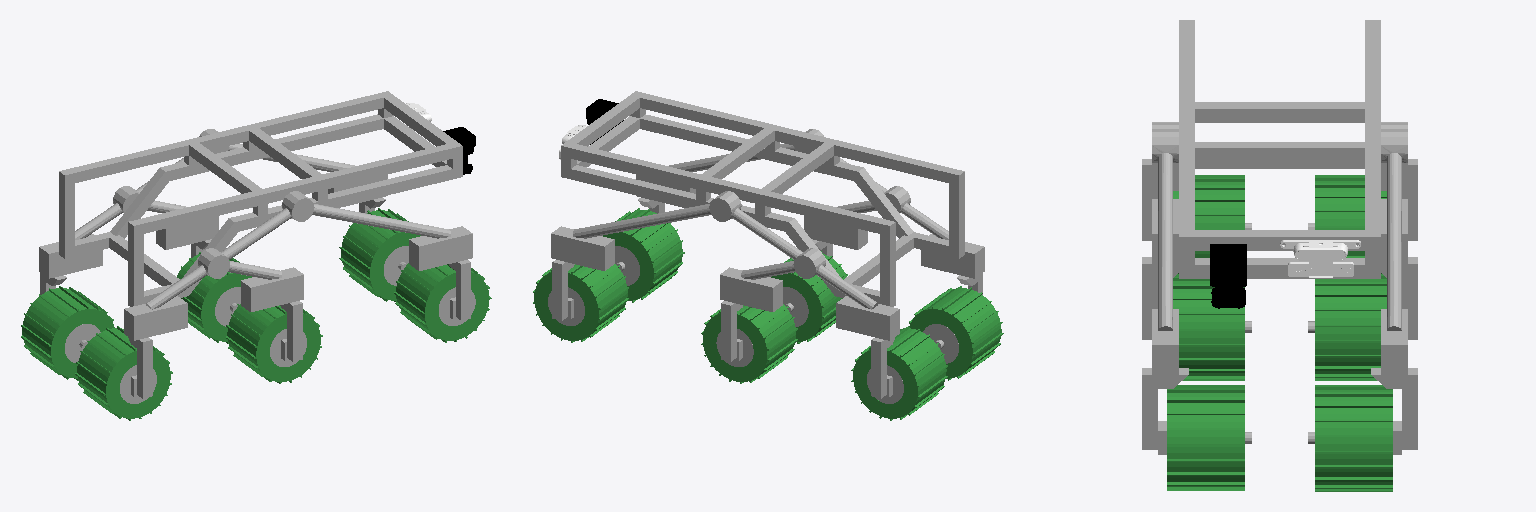
--- Render facts (derived) ---
Views: 3 orthographic renders of the robot side by side, from view 1: azimuth 30°, elevation 25°; view 2: azimuth 150°, elevation 25°; view 3: azimuth 270°, elevation 25°.
Model upmoon with 17 links and 16 joints (13 continuous, 3 fixed), rooted at dummy, posed every joint at zero.
Visible links, largest first — view 1: base_link, wheel_rb_link, wheel_lb_link, wheel_rf_link, wheel_rm_link, wheel_lf_link, wheel_lm_link, ankle_rb_link, ankle_rm_link, ankle_rf_link, ankle_lb_link, ankle_lf_link (+2 smaller); view 2: base_link, wheel_lb_link, wheel_rb_link, wheel_lm_link, wheel_lf_link, wheel_rf_link, wheel_rm_link, ankle_lb_link, ankle_lf_link, ankle_lm_link, ankle_rb_link, ankle_rf_link (+1 smaller); view 3: base_link, wheel_lf_link, wheel_rf_link, wheel_lm_link, wheel_rm_link, wheel_lb_link, wheel_rb_link, camera_realsense_link, laser_hokuyo_link, ankle_lf_link, ankle_rf_link, ankle_lm_link (+3 smaller).
Link boxes in pixels (bbox=[...]): base_link: bbox=[39, 91, 472, 340]; wheel_rb_link: bbox=[75, 326, 172, 420]; wheel_lb_link: bbox=[21, 286, 114, 380]; wheel_rf_link: bbox=[394, 263, 491, 342]; wheel_rm_link: bbox=[226, 304, 322, 383]; wheel_lf_link: bbox=[339, 208, 420, 301]; wheel_lm_link: bbox=[177, 252, 251, 343]; ankle_rb_link: bbox=[120, 337, 156, 403]; ankle_rm_link: bbox=[270, 301, 306, 366]; ankle_rf_link: bbox=[439, 260, 475, 325]; ankle_lb_link: bbox=[40, 273, 100, 362]; ankle_lf_link: bbox=[359, 197, 408, 285]; base_link: bbox=[551, 91, 984, 340]; wheel_lb_link: bbox=[851, 326, 947, 420]; wheel_rb_link: bbox=[909, 286, 1003, 380]; wheel_lm_link: bbox=[701, 304, 797, 383]; wheel_lf_link: bbox=[533, 264, 628, 342]; wheel_rf_link: bbox=[603, 208, 684, 302]; wheel_rm_link: bbox=[771, 251, 847, 343]; ankle_lb_link: bbox=[867, 338, 903, 403]; ankle_lf_link: bbox=[548, 260, 584, 325]; ankle_lm_link: bbox=[716, 301, 753, 366]; ankle_rb_link: bbox=[923, 273, 982, 363]; ankle_rf_link: bbox=[615, 198, 664, 285]; base_link: bbox=[1152, 20, 1407, 377]; wheel_lf_link: bbox=[1315, 385, 1392, 491]; wheel_rf_link: bbox=[1167, 385, 1244, 490]; wheel_lm_link: bbox=[1315, 274, 1386, 380]; wheel_rm_link: bbox=[1173, 274, 1244, 380]; wheel_lb_link: bbox=[1315, 175, 1386, 273]; wheel_rb_link: bbox=[1173, 175, 1244, 273]; camera_realsense_link: bbox=[1280, 240, 1360, 277]; laser_hokuyo_link: bbox=[1210, 244, 1246, 308]; ankle_lf_link: bbox=[1308, 368, 1417, 454]; ankle_rf_link: bbox=[1142, 368, 1251, 454]; ankle_lm_link: bbox=[1308, 257, 1417, 339].
Size in the robot's own frame: 0.9894 by 0.4509 by 0.4642 metres.
15 mesh visuals loaded from 15 distinct referenced files (15 binary STL).

URDF robot description (upmoon):
<?xml version="1.0" encoding="utf-8"?>
<!-- This URDF was automatically created by SolidWorks to URDF Exporter! Originally created by Stephen Brawner ([email redacted]) 
     Commit Version: 1.5.1-0-g916b5db  Build Version: 1.5.7152.31018
     For more information, please see http://wiki.ros.org/sw_urdf_exporter -->
<robot
  name="upmoon">
  <link
    name="dummy">
  </link>
  <link
    name="base_link">
    <inertial>
      <origin
        xyz="-0.020329 2.3465E-09 0.28591"
        rpy="0 0 0" />
      <mass
        value="6.9543" />
      <inertia
        ixx="0.081151"
        ixy="-3.9214E-09"
        ixz="-0.026195"
        iyy="0.31318"
        iyz="4.3114E-10"
        izz="0.36231" />
    </inertial>
    <visual>
      <origin
        xyz="0 0 0"
        rpy="0 0 0" />
      <geometry>
        <mesh
          filename="package://upmoon_description/meshes/base_link.STL" />
      </geometry>
      <material
        name="">
        <color
          rgba="0.75294 0.75294 0.75294 1" />
      </material>
    </visual>
    <collision>
      <origin
        xyz="0 0 0"
        rpy="0 0 0" />
      <geometry>
        <mesh
          filename="package://upmoon_description/meshes/base_link.STL" />
      </geometry>
    </collision>
  </link>
  <joint name="dummy_joint" type="fixed">
     <parent link="dummy"/>
     <child link="base_link"/>
  </joint>
  <link
    name="ankle_lf_link">
    <inertial>
      <origin
        xyz="-2.22044604925031E-16 -0.0554425788361456 -0.113686624298986"
        rpy="0 0 0" />
      <mass
        value="1.04774515766299" />
      <inertia
        ixx="0.00322324069056713"
        ixy="-5.47281175631613E-19"
        ixz="-4.16744139109356E-19"
        iyy="0.00166301817426074"
        iyz="-0.000501932714163738"
        izz="0.002605091688403" />
    </inertial>
    <visual>
      <origin
        xyz="0 0 0"
        rpy="0 0 0" />
      <geometry>
        <mesh
          filename="package://upmoon_description/meshes/ankle_lf_link.STL" />
      </geometry>
      <material
        name="">
        <color
          rgba="0.752941176470588 0.752941176470588 0.752941176470588 1" />
      </material>
    </visual>
    <collision>
      <origin
        xyz="0 0 0"
        rpy="0 0 0" />
      <geometry>
        <mesh
          filename="package://upmoon_description/meshes/ankle_lf_link.STL" />
      </geometry>
    </collision>
  </link>
  <joint
    name="ankle_lf_joint"
    type="continuous">
    <origin
      xyz="0.39333 0.18733 0.15178"
      rpy="0 0 0" />
    <parent
      link="base_link" />
    <child
      link="ankle_lf_link" />
    <axis
      xyz="0 0 1" />
    <limit effort="27" velocity="0.8727" lower="0" upper="3.1415" />
  </joint>
  <transmission name="ankle_lf_trans">
    <type>transmission_interface/SimpleTransmission</type>
    <actuator name="ankle_lf_motor">
      <mechanicalReduction>1</mechanicalReduction>
    </actuator>
    <joint name="ankle_lf_joint">
      <hardwareInterface>hardware_interface/PositionJointInterface</hardwareInterface>
    </joint>
  </transmission>
  <link
    name="wheel_lf_link">
    <inertial>
      <origin
        xyz="-1.11022302462516E-16 0.0635 1.38777878078145E-17"
        rpy="0 0 0" />
      <mass
        value="1.85480335178328" />
      <inertia
        ixx="0.00675983988350881"
        ixy="1.5605162651139E-19"
        ixz="6.23180432713856E-19"
        iyy="0.00853365922353221"
        iyz="-4.21851364054712E-19"
        izz="0.00675983988350881" />
    </inertial>
    <visual>
      <origin
        xyz="0 0 0"
        rpy="0 0 0" />
      <geometry>
        <mesh
          filename="package://upmoon_description/meshes/wheel_lf_link.STL" />
      </geometry>
      <material
        name="">
        <color
          rgba="0.286274509803922 0.662745098039216 0.329411764705882 1" />
      </material>
    </visual>
    <collision>
      <origin
        xyz="0 0 0"
        rpy="0 0 0" />
      <geometry>
        <mesh
          filename="package://upmoon_description/meshes/wheel_lf_link.STL" />
      </geometry>
    </collision>
  </link>
  <joint
    name="wheel_lf_joint"
    type="continuous">
    <origin
      xyz="0 -0.12954 -0.12065"
      rpy="0 0 0" />
    <parent
      link="ankle_lf_link" />
    <child
      link="wheel_lf_link" />
    <axis
      xyz="0 -1 0" />
  </joint>
  <transmission name="wheel_lf_trans">
    <type>transmission_interface/SimpleTransmission</type>
    <actuator name="wheel_lf_motor">
      <mechanicalReduction>1</mechanicalReduction>
    </actuator>
    <joint name="wheel_lf_joint">
      <hardwareInterface>hardware_interface/VelocityJointInterface</hardwareInterface>
    </joint>
  </transmission>
  <link
    name="ankle_lm_link">
    <inertial>
      <origin
        xyz="5.55111512312578E-17 -0.0554425788361452 -0.113686624298986"
        rpy="0 0 0" />
      <mass
        value="1.04774515766299" />
      <inertia
        ixx="0.00322324069056713"
        ixy="-2.10945751927331E-20"
        ixz="-1.07438080557644E-20"
        iyy="0.00166301817426074"
        iyz="-0.000501932714163738"
        izz="0.002605091688403" />
    </inertial>
    <visual>
      <origin
        xyz="0 0 0"
        rpy="0 0 0" />
      <geometry>
        <mesh
          filename="package://upmoon_description/meshes/ankle_lm_link.STL" />
      </geometry>
      <material
        name="">
        <color
          rgba="0.752941176470588 0.752941176470588 0.752941176470588 1" />
      </material>
    </visual>
    <collision>
      <origin
        xyz="0 0 0"
        rpy="0 0 0" />
      <geometry>
        <mesh
          filename="package://upmoon_description/meshes/ankle_lm_link.STL" />
      </geometry>
    </collision>
  </link>
  <joint
    name="ankle_lm_joint"
    type="continuous">
    <origin
      xyz="-0.035934 0.18733 0.15178"
      rpy="0 0 0" />
    <parent
      link="base_link" />
    <child
      link="ankle_lm_link" />
    <axis
      xyz="0 0 1" />
    <limit effort="27" velocity="0.8727" lower="0" upper="3.1415" />
  </joint>
  <transmission name="ankle_lm_trans">
    <type>transmission_interface/SimpleTransmission</type>
    <actuator name="ankle_lm_motor">
      <mechanicalReduction>1</mechanicalReduction>
    </actuator>
    <joint name="ankle_lm_joint">
      <hardwareInterface>hardware_interface/PositionJointInterface</hardwareInterface>
    </joint>
  </transmission>
  <link
    name="wheel_lm_link">
    <inertial>
      <origin
        xyz="-2.77555756156289E-17 0.0635 1.38777878078145E-17"
        rpy="0 0 0" />
      <mass
        value="1.85480335178328" />
      <inertia
        ixx="0.00675983988350881"
        ixy="1.02243039778557E-19"
        ixz="-6.10688344738352E-19"
        iyy="0.00853365922353221"
        iyz="-8.58134619313326E-21"
        izz="0.00675983988350881" />
    </inertial>
    <visual>
      <origin
        xyz="0 0 0"
        rpy="0 0 0" />
      <geometry>
        <mesh
          filename="package://upmoon_description/meshes/wheel_lm_link.STL" />
      </geometry>
      <material
        name="">
        <color
          rgba="0.286274509803922 0.662745098039216 0.329411764705882 1" />
      </material>
    </visual>
    <collision>
      <origin
        xyz="0 0 0"
        rpy="0 0 0" />
      <geometry>
        <mesh
          filename="package://upmoon_description/meshes/wheel_lm_link.STL" />
      </geometry>
    </collision>
  </link>
  <joint
    name="wheel_lm_joint"
    type="continuous">
    <origin
      xyz="0 -0.12954 -0.12065"
      rpy="0 0 0" />
    <parent
      link="ankle_lm_link" />
    <child
      link="wheel_lm_link" />
    <axis
      xyz="0 -1 0" />
  </joint>
  <transmission name="wheel_lm_trans">
    <type>transmission_interface/SimpleTransmission</type>
    <actuator name="wheel_lm_motor">
      <mechanicalReduction>1</mechanicalReduction>
    </actuator>
    <joint name="wheel_lm_joint">
      <hardwareInterface>hardware_interface/VelocityJointInterface</hardwareInterface>
    </joint>
  </transmission>
  <link
    name="ankle_lb_link">
    <inertial>
      <origin
        xyz="8.32667268468867E-17 -0.0554425788361456 -0.113686624298986"
        rpy="0 0 0" />
      <mass
        value="1.04774515766299" />
      <inertia
        ixx="0.00322324069056713"
        ixy="-1.00834710764583E-19"
        ixz="-6.61417645039752E-20"
        iyy="0.00166301817426074"
        iyz="-0.000501932714163739"
        izz="0.002605091688403" />
    </inertial>
    <visual>
      <origin
        xyz="0 0 0"
        rpy="0 0 0" />
      <geometry>
        <mesh
          filename="package://upmoon_description/meshes/ankle_lb_link.STL" />
      </geometry>
      <material
        name="">
        <color
          rgba="0.752941176470588 0.752941176470588 0.752941176470588 1" />
      </material>
    </visual>
    <collision>
      <origin
        xyz="0 0 0"
        rpy="0 0 0" />
      <geometry>
        <mesh
          filename="package://upmoon_description/meshes/ankle_lb_link.STL" />
      </geometry>
    </collision>
  </link>
  <joint
    name="ankle_lb_joint"
    type="continuous">
    <origin
      xyz="-0.41873 0.18733 0.15178"
      rpy="0 0 0" />
    <parent
      link="base_link" />
    <child
      link="ankle_lb_link" />
    <axis
      xyz="0 0 -1" />
    <limit effort="27" velocity="0.8727" lower="0" upper="3.1415" />
  </joint>
  <transmission name="ankle_lb_trans">
    <type>transmission_interface/SimpleTransmission</type>
    <actuator name="ankle_lb_motor">
      <mechanicalReduction>1</mechanicalReduction>
    </actuator>
    <joint name="ankle_lb_joint">
      <hardwareInterface>hardware_interface/PositionJointInterface</hardwareInterface>
    </joint>
  </transmission>
  <link
    name="wheel_lb_link">
    <inertial>
      <origin
        xyz="-2.77555756156289E-17 0.0635 0"
        rpy="0 0 0" />
      <mass
        value="1.85480335178328" />
      <inertia
        ixx="0.00675983988350881"
        ixy="-1.38168356719149E-19"
        ixz="4.36164364250201E-19"
        iyy="0.0085336592235322"
        iyz="2.30270606740052E-19"
        izz="0.00675983988350881" />
    </inertial>
    <visual>
      <origin
        xyz="0 0 0"
        rpy="0 0 0" />
      <geometry>
        <mesh
          filename="package://upmoon_description/meshes/wheel_lb_link.STL" />
      </geometry>
      <material
        name="">
        <color
          rgba="0.286274509803922 0.662745098039216 0.329411764705882 1" />
      </material>
    </visual>
    <collision>
      <origin
        xyz="0 0 0"
        rpy="0 0 0" />
      <geometry>
        <mesh
          filename="package://upmoon_description/meshes/wheel_lb_link.STL" />
      </geometry>
    </collision>
  </link>
  <joint
    name="wheel_lb_joint"
    type="continuous">
    <origin
      xyz="0 -0.12954 -0.12065"
      rpy="0 0 0" />
    <parent
      link="ankle_lb_link" />
    <child
      link="wheel_lb_link" />
    <axis
      xyz="0 -1 0" />
  </joint>
  <transmission name="wheel_lb_trans">
    <type>transmission_interface/SimpleTransmission</type>
    <actuator name="wheel_lb_motor">
      <mechanicalReduction>1</mechanicalReduction>
    </actuator>
    <joint name="wheel_lb_joint">
      <hardwareInterface>hardware_interface/VelocityJointInterface</hardwareInterface>
    </joint>
  </transmission>
  <link
    name="ankle_rf_link">
    <inertial>
      <origin
        xyz="1.11022302462516E-16 0.0554425788361456 -0.113686624298986"
        rpy="0 0 0" />
      <mass
        value="1.04774515766299" />
      <inertia
        ixx="0.00322324069056714"
        ixy="-4.13907677100432E-19"
        ixz="3.11569712245013E-19"
        iyy="0.00166301817426074"
        iyz="0.000501932714163739"
        izz="0.002605091688403" />
    </inertial>
    <visual>
      <origin
        xyz="0 0 0"
        rpy="0 0 0" />
      <geometry>
        <mesh
          filename="package://upmoon_description/meshes/ankle_rf_link.STL" />
      </geometry>
      <material
        name="">
        <color
          rgba="0.752941176470588 0.752941176470588 0.752941176470588 1" />
      </material>
    </visual>
    <collision>
      <origin
        xyz="0 0 0"
        rpy="0 0 0" />
      <geometry>
        <mesh
          filename="package://upmoon_description/meshes/ankle_rf_link.STL" />
      </geometry>
    </collision>
  </link>
  <joint
    name="ankle_rf_joint"
    type="continuous">
    <origin
      xyz="0.39333 -0.18733 0.15178"
      rpy="0 0 0" />
    <parent
      link="base_link" />
    <child
      link="ankle_rf_link" />
    <axis
      xyz="0 0 -1" />
    <limit effort="27" velocity="0.8727" lower="0" upper="3.1415" />
  </joint>
  <transmission name="ankle_rf_trans">
    <type>transmission_interface/SimpleTransmission</type>
    <actuator name="ankle_rf_motor">
      <mechanicalReduction>1</mechanicalReduction>
    </actuator>
    <joint name="ankle_rf_joint">
      <hardwareInterface>hardware_interface/PositionJointInterface</hardwareInterface>
    </joint>
  </transmission>
  <link
    name="wheel_rf_link">
    <inertial>
      <origin
        xyz="0 -0.0634999999999999 -1.38777878078145E-17"
        rpy="0 0 0" />
      <mass
        value="1.85480335178328" />
      <inertia
        ixx="0.00675983988350882"
        ixy="-1.12473578604354E-19"
        ixz="-1.25004024262758E-19"
        iyy="0.00853365922353221"
        iyz="-8.67811043273137E-20"
        izz="0.00675983988350881" />
    </inertial>
    <visual>
      <origin
        xyz="0 0 0"
        rpy="0 0 0" />
      <geometry>
        <mesh
          filename="package://upmoon_description/meshes/wheel_rf_link.STL" />
      </geometry>
      <material
        name="">
        <color
          rgba="0.286274509803922 0.662745098039216 0.329411764705882 1" />
      </material>
    </visual>
    <collision>
      <origin
        xyz="0 0 0"
        rpy="0 0 0" />
      <geometry>
        <mesh
          filename="package://upmoon_description/meshes/wheel_rf_link.STL" />
      </geometry>
    </collision>
  </link>
  <joint
    name="wheel_rf_joint"
    type="continuous">
    <origin
      xyz="0 0.12954 -0.12065"
      rpy="0 0 0" />
    <parent
      link="ankle_rf_link" />
    <child
      link="wheel_rf_link" />
    <axis
      xyz="0 -1 0" />
  </joint>
  <transmission name="wheel_rf_trans">
    <type>transmission_interface/SimpleTransmission</type>
    <actuator name="wheel_rf_motor">
      <mechanicalReduction>1</mechanicalReduction>
    </actuator>
    <joint name="wheel_rf_joint">
      <hardwareInterface>hardware_interface/VelocityJointInterface</hardwareInterface>
    </joint>
  </transmission>
  <link
    name="ankle_rm_link">
    <inertial>
      <origin
        xyz="1.38777878078145E-16 0.0554425788361446 -0.113686624298986"
        rpy="0 0 0" />
      <mass
        value="1.04774515766299" />
      <inertia
        ixx="0.00322324069056713"
        ixy="-2.86732537090208E-19"
        ixz="2.95641698652251E-19"
        iyy="0.00166301817426074"
        iyz="0.000501932714163738"
        izz="0.002605091688403" />
    </inertial>
    <visual>
      <origin
        xyz="0 0 0"
        rpy="0 0 0" />
      <geometry>
        <mesh
          filename="package://upmoon_description/meshes/ankle_rm_link.STL" />
      </geometry>
      <material
        name="">
        <color
          rgba="0.752941176470588 0.752941176470588 0.752941176470588 1" />
      </material>
    </visual>
    <collision>
      <origin
        xyz="0 0 0"
        rpy="0 0 0" />
      <geometry>
        <mesh
          filename="package://upmoon_description/meshes/ankle_rm_link.STL" />
      </geometry>
    </collision>
  </link>
  <joint
    name="ankle_rm_joint"
    type="continuous">
    <origin
      xyz="-0.035934 -0.18733 0.15178"
      rpy="0 0 0" />
    <parent
      link="base_link" />
    <child
      link="ankle_rm_link" />
    <axis
      xyz="0 0 -1" />
    <limit effort="27" velocity="0.8727" lower="0" upper="3.1415" />
  </joint>
  <transmission name="ankle_rm_trans">
    <type>transmission_interface/SimpleTransmission</type>
    <actuator name="ankle_rm_motor">
      <mechanicalReduction>1</mechanicalReduction>
    </actuator>
    <joint name="ankle_rm_joint">
      <hardwareInterface>hardware_interface/PositionJointInterface</hardwareInterface>
    </joint>
  </transmission>
  <link
    name="wheel_rm_link">
    <inertial>
      <origin
        xyz="2.77555756156289E-17 -0.0635 0"
        rpy="0 0 0" />
      <mass
        value="1.85480335178328" />
      <inertia
        ixx="0.00675983988350881"
        ixy="-2.00877775622719E-19"
        ixz="-9.24742333906929E-19"
        iyy="0.00853365922353221"
        iyz="-1.24658504086238E-19"
        izz="0.00675983988350881" />
    </inertial>
    <visual>
      <origin
        xyz="0 0 0"
        rpy="0 0 0" />
      <geometry>
        <mesh
          filename="package://upmoon_description/meshes/wheel_rm_link.STL" />
      </geometry>
      <material
        name="">
        <color
          rgba="0.286274509803922 0.662745098039216 0.329411764705882 1" />
      </material>
    </visual>
    <collision>
      <origin
        xyz="0 0 0"
        rpy="0 0 0" />
      <geometry>
        <mesh
          filename="package://upmoon_description/meshes/wheel_rm_link.STL" />
      </geometry>
    </collision>
  </link>
  <joint
    name="wheel_rm_joint"
    type="continuous">
    <origin
      xyz="0 0.12954 -0.12065"
      rpy="0 0 0" />
    <parent
      link="ankle_rm_link" />
    <child
      link="wheel_rm_link" />
    <axis
      xyz="0 -1 0" />
  </joint>
  <transmission name="wheel_rm_trans">
    <type>transmission_interface/SimpleTransmission</type>
    <actuator name="wheel_rm_motor">
      <mechanicalReduction>1</mechanicalReduction>
    </actuator>
    <joint name="wheel_rm_joint">
      <hardwareInterface>hardware_interface/VelocityJointInterface</hardwareInterface>
    </joint>
  </transmission>
  <link
    name="ankle_rb_link">
    <inertial>
      <origin
        xyz="1.11022302462516E-16 0.0554425788361455 -0.113686624298986"
        rpy="0 0 0" />
      <mass
        value="1.04774515766299" />
      <inertia
        ixx="0.00322324069056713"
        ixy="-3.18820056139109E-19"
        ixz="2.4167914372682E-19"
        iyy="0.00166301817426074"
        iyz="0.000501932714163738"
        izz="0.002605091688403" />
    </inertial>
    <visual>
      <origin
        xyz="0 0 0"
        rpy="0 0 0" />
      <geometry>
        <mesh
          filename="package://upmoon_description/meshes/ankle_rb_link.STL" />
      </geometry>
      <material
        name="">
        <color
          rgba="0.752941176470588 0.752941176470588 0.752941176470588 1" />
      </material>
    </visual>
    <collision>
      <origin
        xyz="0 0 0"
        rpy="0 0 0" />
      <geometry>
        <mesh
          filename="package://upmoon_description/meshes/ankle_rb_link.STL" />
      </geometry>
    </collision>
  </link>
  <joint
    name="ankle_rb_joint"
    type="continuous">
    <origin
      xyz="-0.41873 -0.18733 0.15178"
      rpy="0 0 0" />
    <parent
      link="base_link" />
    <child
      link="ankle_rb_link" />
    <axis
      xyz="0 0 1" />
    <limit effort="27" velocity="0.8727" lower="0" upper="3.1415" />
  </joint>
  <transmission name="ankle_rb_trans">
    <type>transmission_interface/SimpleTransmission</type>
    <actuator name="ankle_rb_motor">
      <mechanicalReduction>1</mechanicalReduction>
    </actuator>
    <joint name="ankle_rb_joint">
      <hardwareInterface>hardware_interface/PositionJointInterface</hardwareInterface>
    </joint>
  </transmission>
  <link
    name="wheel_rb_link">
    <inertial>
      <origin
        xyz="0 -0.0634999999999999 0"
        rpy="0 0 0" />
      <mass
        value="1.85480335178328" />
      <inertia
        ixx="0.00675983988350882"
        ixy="-6.1303740424944E-20"
        ixz="-2.39283151664608E-19"
        iyy="0.00853365922353221"
        iyz="-2.53875293166181E-19"
        izz="0.00675983988350882" />
    </inertial>
    <visual>
      <origin
        xyz="0 0 0"
        rpy="0 0 0" />
      <geometry>
        <mesh
          filename="package://upmoon_description/meshes/wheel_rb_link.STL" />
      </geometry>
      <material
        name="">
        <color
          rgba="0.286274509803922 0.662745098039216 0.329411764705882 1" />
      </material>
    </visual>
    <collision>
      <origin
        xyz="0 0 0"
        rpy="0 0 0" />
      <geometry>
        <mesh
          filename="package://upmoon_description/meshes/wheel_rb_link.STL" />
      </geometry>
    </collision>
  </link>
  <joint
    name="wheel_rb_joint"
    type="continuous">
    <origin
      xyz="0 0.12954 -0.12065"
      rpy="0 0 0" />
    <parent
      link="ankle_rb_link" />
    <child
      link="wheel_rb_link" />
    <axis
      xyz="0 -1 0" />
  </joint>
  <transmission name="wheel_rb_trans">
    <type>transmission_interface/SimpleTransmission</type>
    <actuator name="wheel_rb_motor">
      <mechanicalReduction>1</mechanicalReduction>
    </actuator>
    <joint name="wheel_rb_joint">
      <hardwareInterface>hardware_interface/VelocityJointInterface</hardwareInterface>
    </joint>
  </transmission>
  <link
    name="camera_realsense_link">
    <inertial>
      <origin
        xyz="-0.0128550647291507 5.52081875673238E-05 -0.00936121724707395"
        rpy="0 0 0" />
      <mass
        value="0.0985136277108849" />
      <inertia
        ixx="7.61219529962772E-05"
        ixy="3.74636861230566E-07"
        ixz="5.796339324969E-07"
        iyy="1.14796379028125E-05"
        iyz="-2.18308426233798E-08"
        izz="6.92443554773795E-05" />
    </inertial>
    <visual>
      <origin
        xyz="0 0 0"
        rpy="0 0 0" />
      <geometry>
        <mesh
          filename="package://upmoon_description/meshes/camera_realsense_link.STL" />
      </geometry>
      <material
        name="">
        <color
          rgba="1 1 1 1" />
      </material>
    </visual>
    <collision>
      <origin
        xyz="0 0 0"
        rpy="0 0 0" />
      <geometry>
        <mesh
          filename="package://upmoon_description/meshes/camera_realsense_link.STL" />
      </geometry>
    </collision>
  </link>
  <joint
    name="camera_realsense_joint"
    type="fixed">
    <origin
      xyz="0.44918 0.067 0.38773"
      rpy="0 0 0" />
    <parent
      link="base_link" />
    <child
      link="camera_realsense_link" />
    <axis
      xyz="0 0 0" />
  </joint>
  <link
    name="laser_hokuyo_link">
    <inertial>
      <origin
        xyz="-0.00448365028731934 -7.17616410739197E-10 0.0214158148247628"
        rpy="0 0 0" />
      <mass
        value="0.296744243045657" />
      <inertia
        ixx="0.000271610745135452"
        ixy="-1.29503270039457E-12"
        ixz="-1.96346195833029E-05"
        iyy="0.000281872737876437"
        iyz="-4.23080185617316E-12"
        izz="0.000160350437846327" />
    </inertial>
    <visual>
      <origin
        xyz="0 0 0"
        rpy="0 0 0" />
      <geometry>
        <mesh
          filename="package://upmoon_description/meshes/laser_hokuyo_link.STL" />
      </geometry>
      <material
        name="">
        <color
          rgba="0 0 0 1" />
      </material>
    </visual>
    <collision>
      <origin
        xyz="0 0 0"
        rpy="0 0 0" />
      <geometry>
        <mesh
          filename="package://upmoon_description/meshes/laser_hokuyo_link.STL" />
      </geometry>
    </collision>
  </link>
  <joint
    name="laser_hokuyo_joint"
    type="fixed">
    <origin
      xyz="0.45312 -0.08382 0.33685"
      rpy="0 0 0" />
    <parent
      link="base_link" />
    <child
      link="laser_hokuyo_link" />
    <axis
      xyz="0 0 0" />
  </joint>

  <link
    name="dig_angle_link">
    <inertial>
      <origin
        xyz="0 0 0"
        rpy="0 0 0" />
      <mass
        value="1" />
      <inertia
        ixx="0."
        ixy="0"
        ixz="0"
        iyy="0"
        iyz="0"
        izz="0" />
    </inertial>
  </link>
  <joint
    name="dig_angle_joint"
    type="continuous">
    <parent
      link="base_link" />
    <child
      link="dig_angle_link" />
    <axis
      xyz="0 -1 0" />
  </joint>
  <transmission name="dig_angle_trans">
    <type>transmission_interface/SimpleTransmission</type>
    <actuator name="dig_angle_motor">
      <mechanicalReduction>1</mechanicalReduction>
    </actuator>
    <joint name="dig_angle_joint">
      <hardwareInterface>hardware_interface/VelocityJointInterface</hardwareInterface>
    </joint>
  </transmission>

  <gazebo>
    <plugin name="gazebo_ros_control" filename="libgazebo_ros_control.so">
      <robotNamespace>/</robotNamespace>
    </plugin>
  </gazebo>

</robot>
